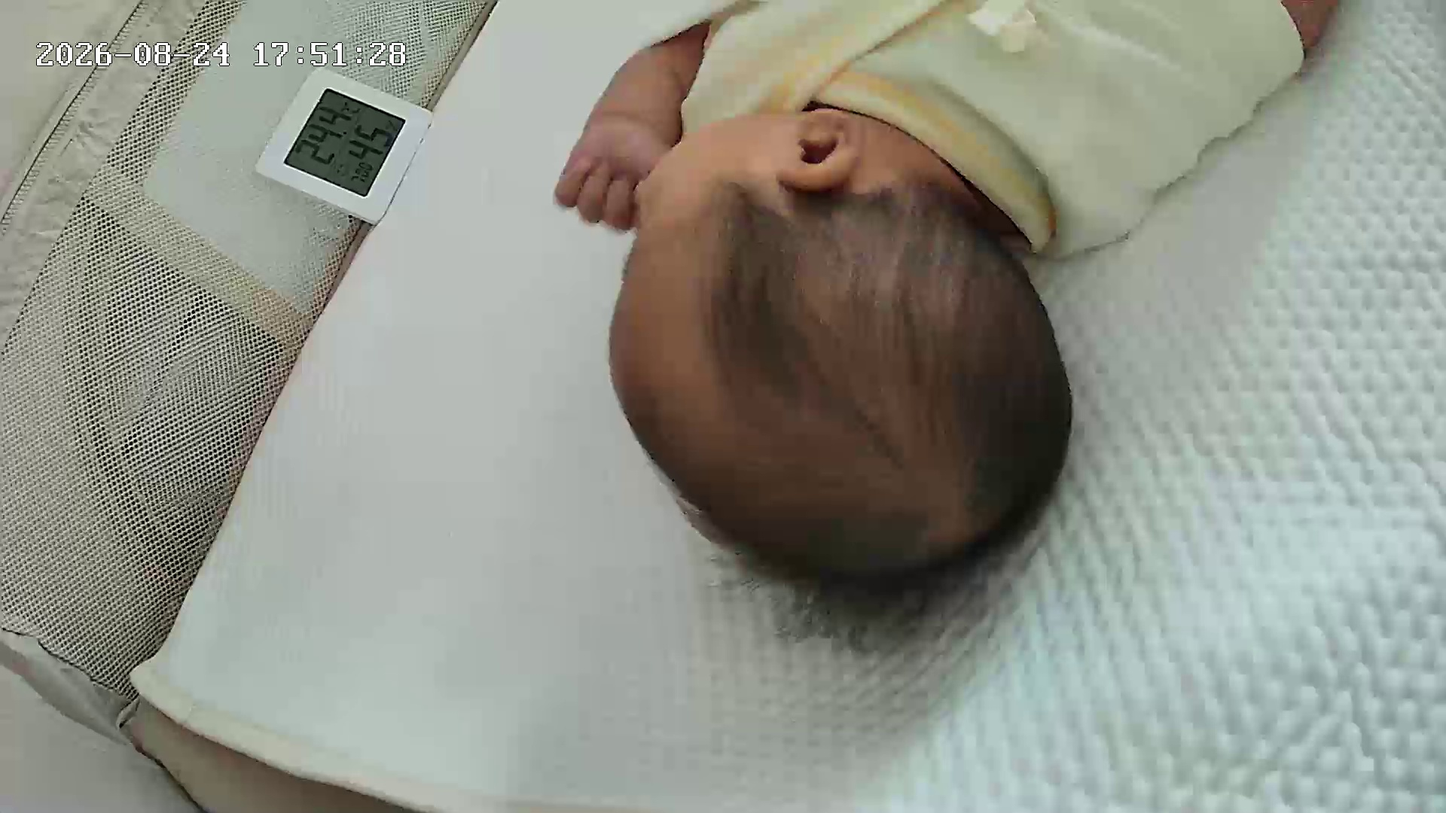baby: (126, 0, 1214, 648), (386, 0, 1332, 637)
baby_face: (619, 55, 1094, 611)
